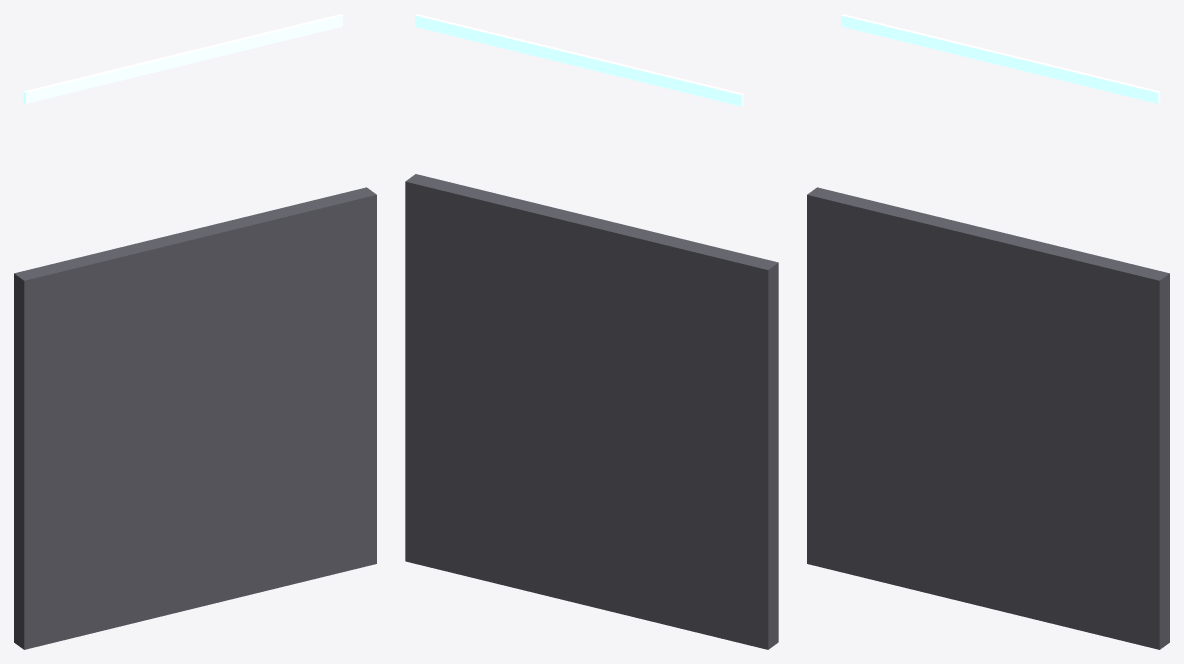
Rendered from corridor_panel.glb.
3 views of the same model, side by side, from view 1: azimuth 30°, elevation 25°; view 2: azimuth 150°, elevation 25°; view 3: azimuth 330°, elevation 25° (orthographic). The views are drawn at different scales.
Parts seen in each view (by area): view 1: Cube, Cube.001; view 2: Cube, Cube.001; view 3: Cube, Cube.001.
Boxes of the visible parts, x1=… form: Cube: x1=14, y1=187, x2=376, y2=649; Cube.001: x1=23, y1=14, x2=342, y2=103; Cube: x1=405, y1=174, x2=778, y2=649; Cube.001: x1=415, y1=14, x2=743, y2=106; Cube: x1=807, y1=187, x2=1169, y2=649; Cube.001: x1=841, y1=14, x2=1160, y2=103.
Size of the model in its own units: 1 by 1.47 by 0.09.
